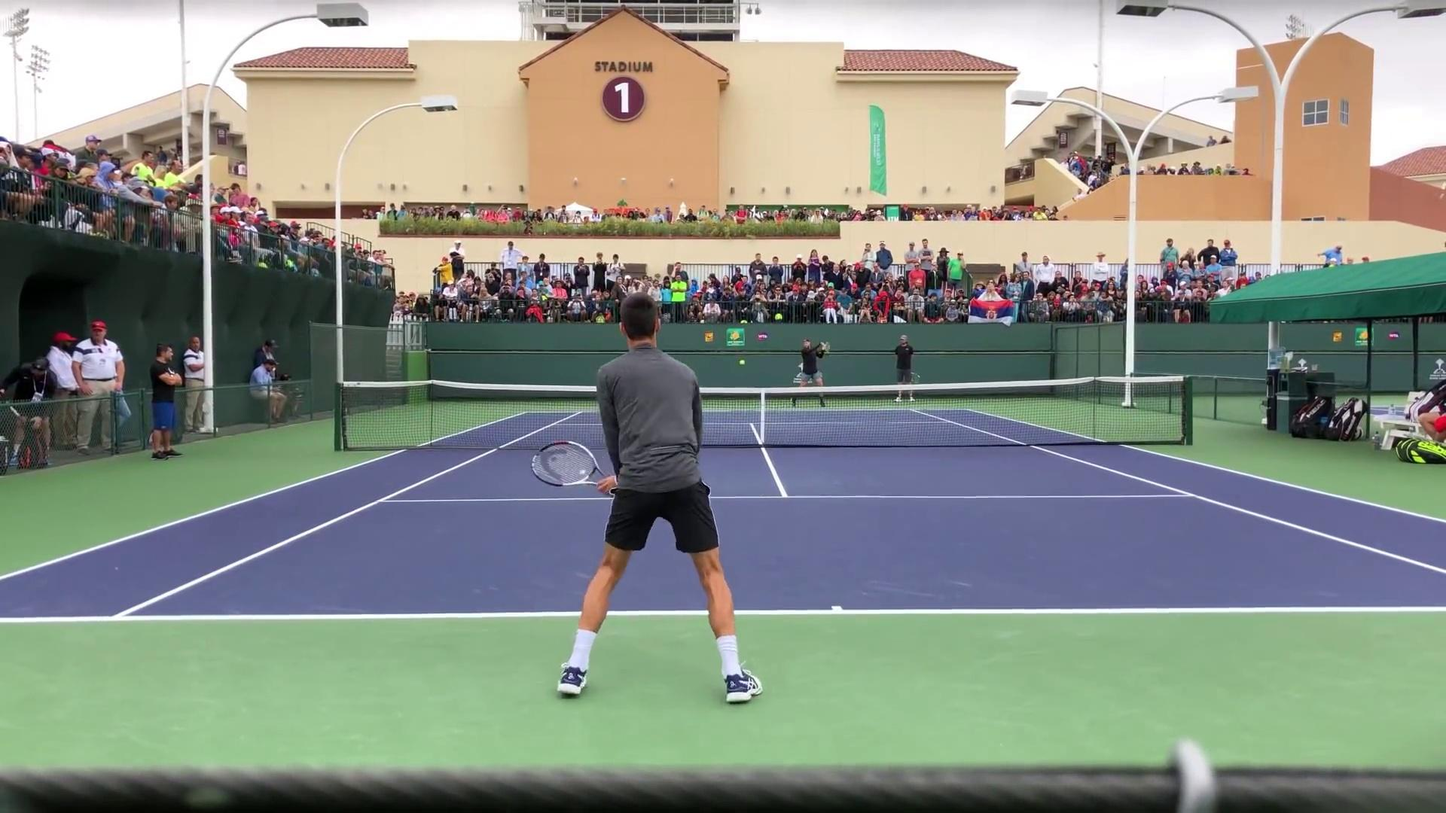ball: (738, 359, 748, 366)
